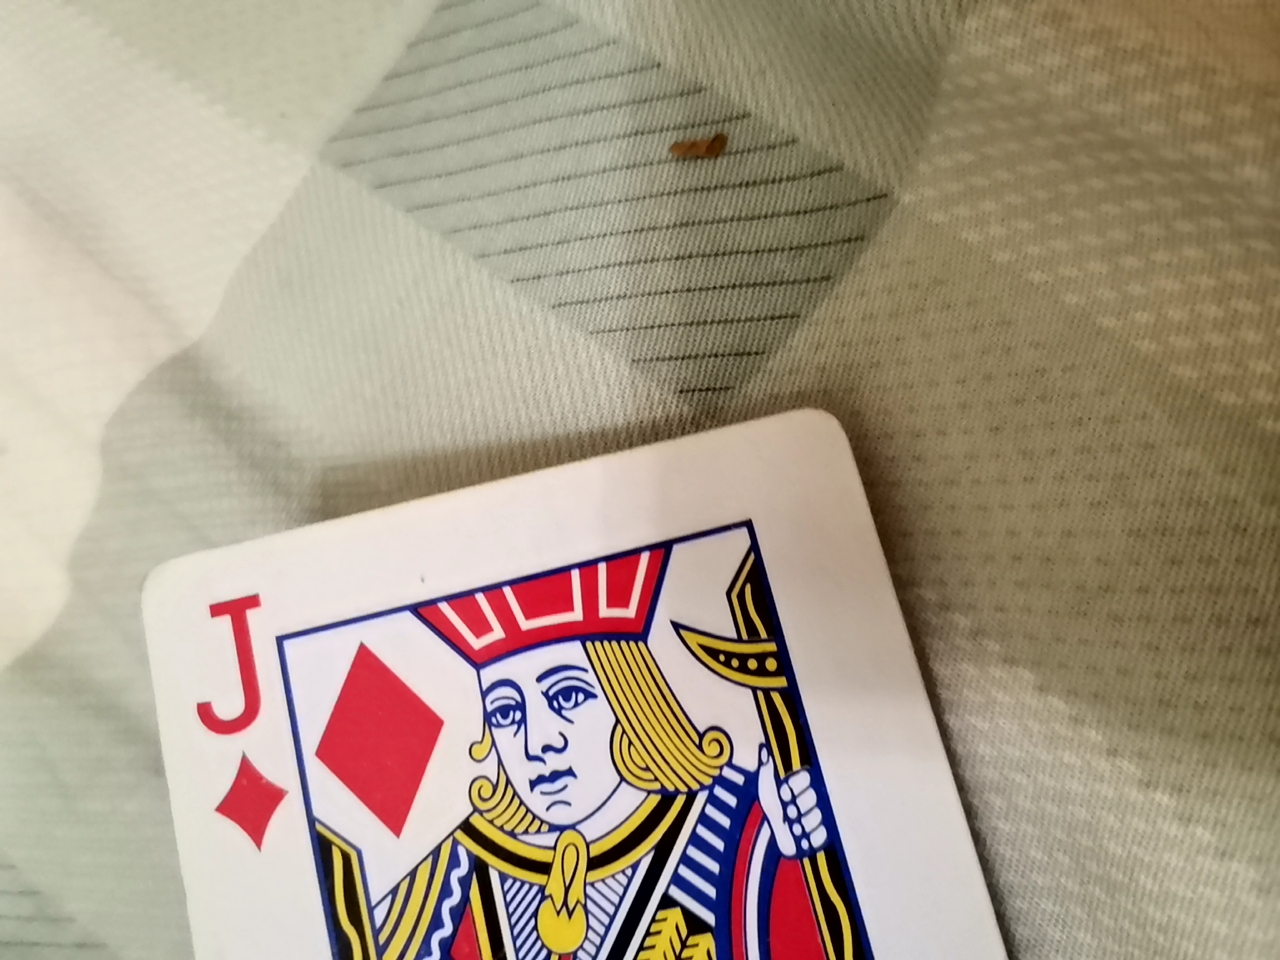fk j: (123, 397, 1136, 945)
